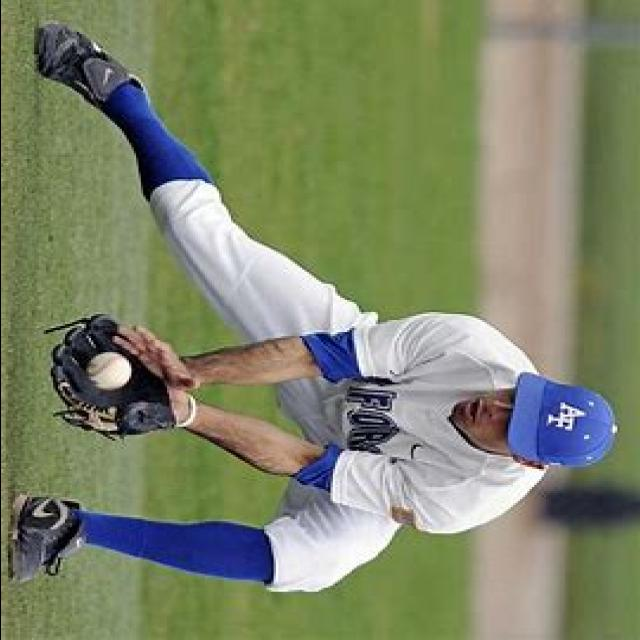ball: (84, 351, 130, 392)
glove: (37, 311, 176, 452)
